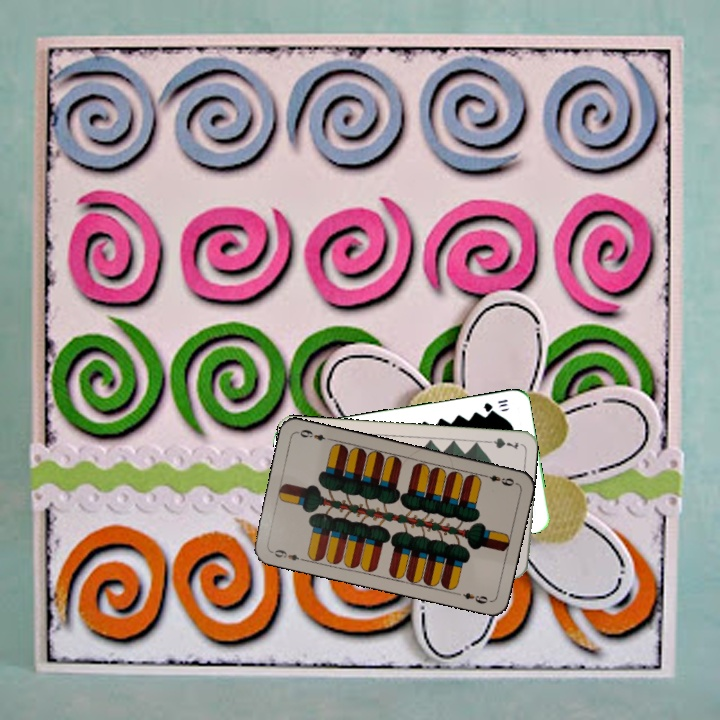E9: (478, 470, 518, 489), (267, 545, 307, 564)
G10: (480, 395, 511, 414)
G7: (481, 434, 521, 452)
